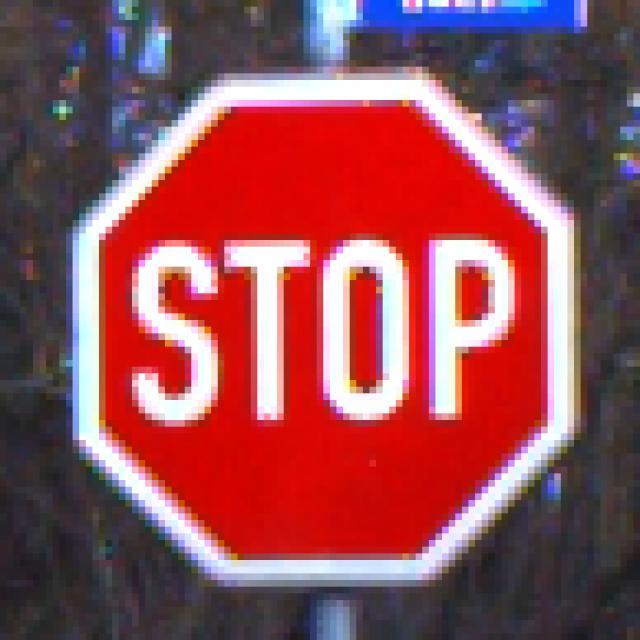STOP: (61, 61, 589, 588)
